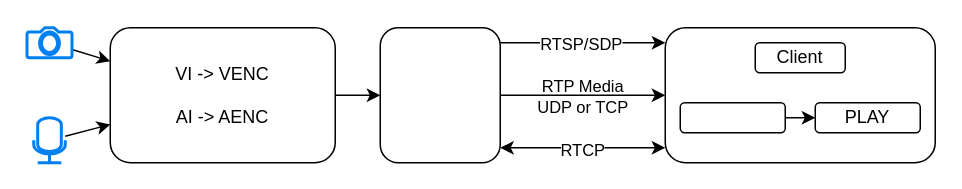
This 962x189 diagram has some shape labels left out. Each missing label, with the centre of its shape:
DECODE: pixel 732 117
RTSP SERVER: pixel 439 94
